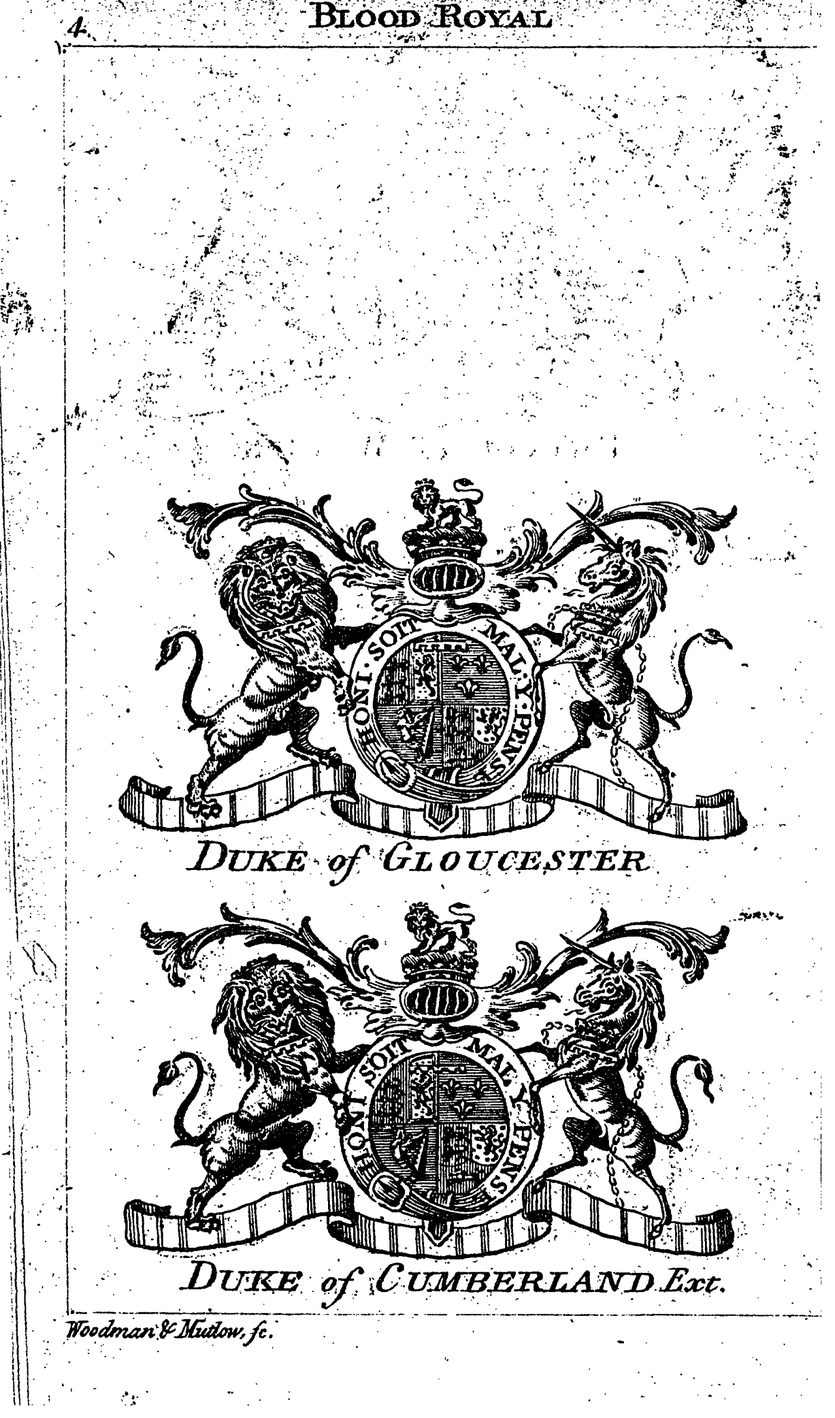coat_of_arms: (111, 428, 764, 885), (114, 888, 775, 1305)
